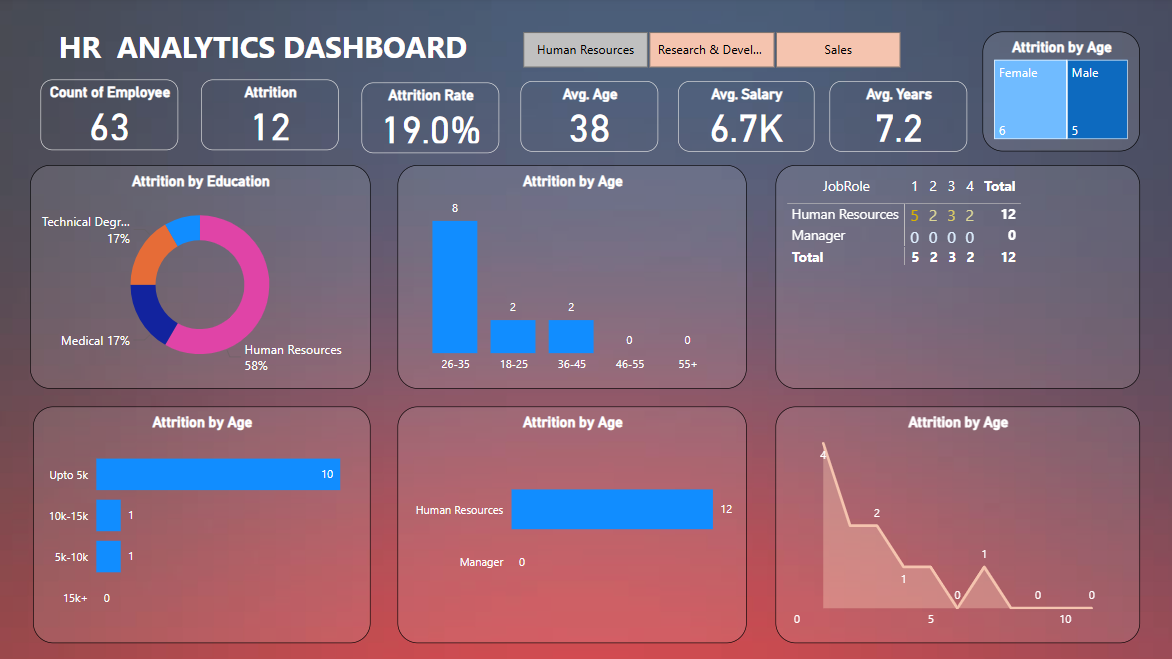

The dashboard page shown, as its layout file describes it:
{"tool":"powerbi","page":{"name":"Page 1","canvas":[1280,720],"ordinal":0},"visuals":[{"type":"card","title":"Count of Employee","fields":{"Values":["CountNonNull(HR_Analytics (2).EmpID)"]},"box":[47.2,89.5,149.6,76.4],"z":0},{"type":"card","title":"Attrition Rate","fields":{"Values":["HR_Analytics (2).AttriritionRate"]},"box":[395.3,92.7,149.6,76.4],"z":1000},{"type":"card","title":"Attrition  ","fields":{"Values":["Sum(HR_Analytics (2).Attrition - Copy)"]},"box":[221.2,89.5,149.6,76.4],"z":2000},{"type":"card","title":"Avg. Age","fields":{"Values":["Avg(HR_Analytics (2).Age)"]},"box":[567.7,91.1,149.6,76.4],"z":3000},{"type":"card","title":"Avg. Salary","fields":{"Values":["Avg(HR_Analytics (2).MonthlyIncome)"]},"box":[738.5,91.1,148,76.4],"z":4000},{"type":"card","title":"Avg. Years","fields":{"Values":["Avg(HR_Analytics (2).YearsAtCompany)"]},"box":[902.7,91.1,149.6,76.4],"z":5000},{"type":"donutChart","title":"Attrition by Education","fields":{"Category":["HR_Analytics (2).EducationField"],"Y":["Sum(HR_Analytics (2).Attrition - Copy)"]},"box":[35.8,182.2,369.2,242.4],"z":6000},{"type":"columnChart","title":"Attrition by Age","fields":{"Category":["HR_Analytics (2).AgeGroup"],"Y":["Sum(HR_Analytics (2).Attrition - Copy)"]},"box":[434.3,182.2,379,242.4],"z":7000},{"type":"pivotTable","fields":{"Rows":["HR_Analytics (2).JobRole"],"Columns":["HR_Analytics (2).JobSatisfaction"],"Values":["Sum(HR_Analytics (2).Attrition - Copy)"]},"box":[844.2,182.2,395.3,242.4],"z":8000},{"type":"barChart","title":"Attrition by Age","fields":{"Category":["HR_Analytics (2).SalarySlab"],"Y":["Sum(HR_Analytics (2).Attrition - Copy)"]},"box":[39,444,366,257],"z":9000},{"type":"barChart","title":"Attrition by Age","fields":{"Category":["HR_Analytics (2).JobRole"],"Y":["Sum(HR_Analytics (2).Attrition - Copy)"]},"box":[434.3,444,379,257],"z":10000},{"type":"areaChart","title":"Attrition by Age","fields":{"Category":["HR_Analytics (2).YearsAtCompany"],"Y":["Sum(HR_Analytics (2).Attrition - Copy)"]},"box":[844.2,444,395.3,257],"z":11000},{"type":"treemap","title":"Attrition by Age","fields":{"Group":["HR_Analytics (2).Gender"],"Values":["Sum(HR_Analytics (2).Attrition - Copy)"]},"box":[1068.6,37.4,170.8,130.1],"z":12000},{"type":"slicer","fields":{"Values":["HR_Analytics (2).Department"]},"box":[544.9,30.9,458.7,52],"z":13000},{"type":"textbox","box":[61.8,26,496.1,76.4],"z":14000}]}

Visuals, with their boxes in screenshot pixels (x1, y1, x2, y2), scaled from the page's 1280x720 canvas onto the 1172x659 screenshot:
"Count of Employee" card: Rect(43, 82, 180, 152)
"Attrition Rate" card: Rect(362, 85, 499, 155)
"Attrition  " card: Rect(203, 82, 340, 152)
"Avg. Age" card: Rect(520, 83, 657, 153)
"Avg. Salary" card: Rect(676, 83, 812, 153)
"Avg. Years" card: Rect(827, 83, 964, 153)
"Attrition by Education" donutChart: Rect(33, 167, 371, 389)
"Attrition by Age" columnChart: Rect(398, 167, 745, 389)
pivotTable - HR_Analytics (2).JobRole x HR_Analytics (2).JobSatisfaction: Rect(773, 167, 1135, 389)
"Attrition by Age" barChart: Rect(36, 406, 371, 642)
"Attrition by Age" barChart: Rect(398, 406, 745, 642)
"Attrition by Age" areaChart: Rect(773, 406, 1135, 642)
"Attrition by Age" treemap: Rect(978, 34, 1135, 153)
slicer - HR_Analytics (2).Department: Rect(499, 28, 919, 76)
textbox: Rect(57, 24, 511, 94)
